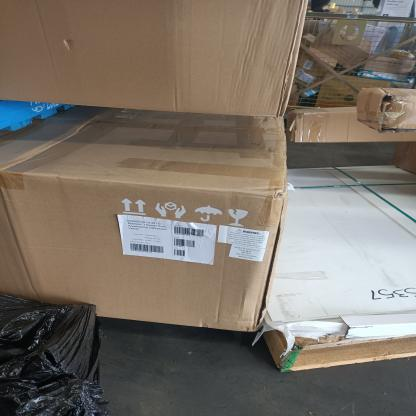label: (114, 213, 220, 285), (218, 219, 273, 271)
package: (0, 119, 295, 341)
